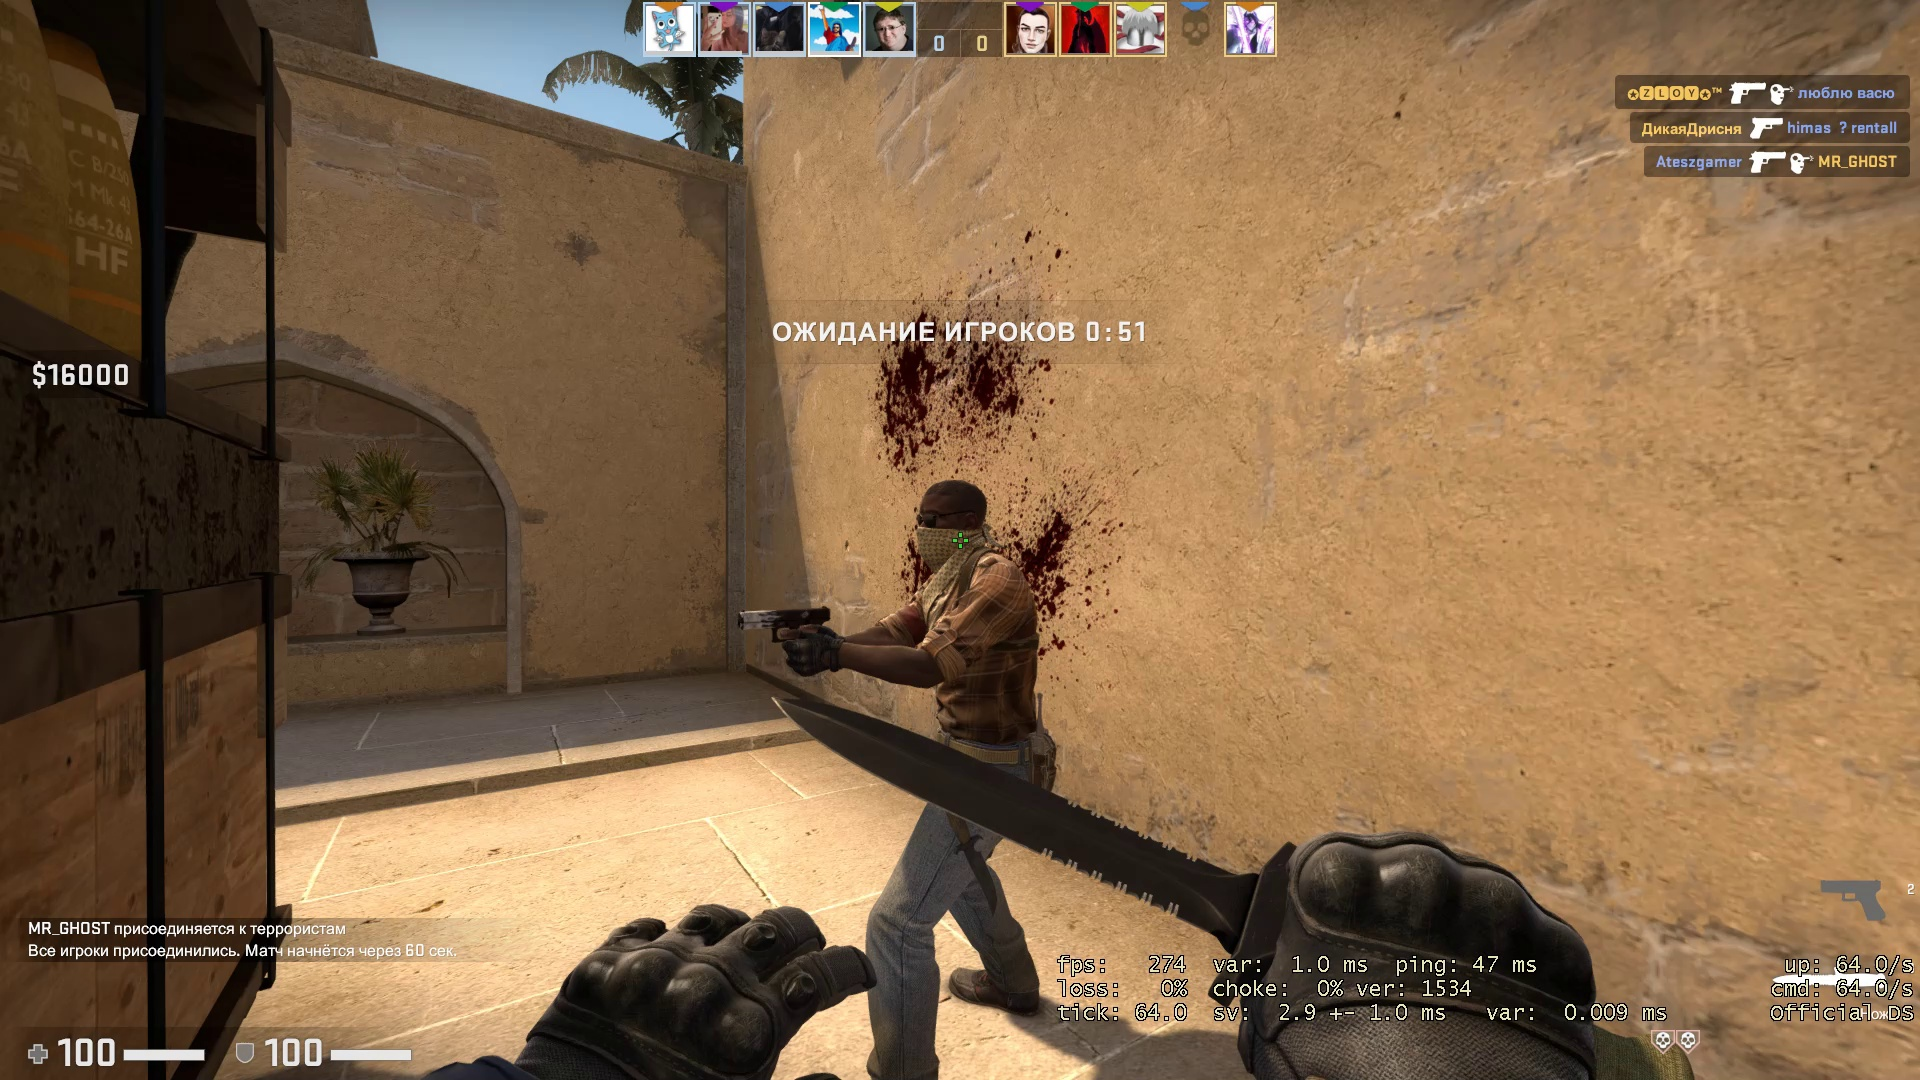ter: (810, 475, 1060, 1071)
ter_cops: (911, 468, 1000, 585)
